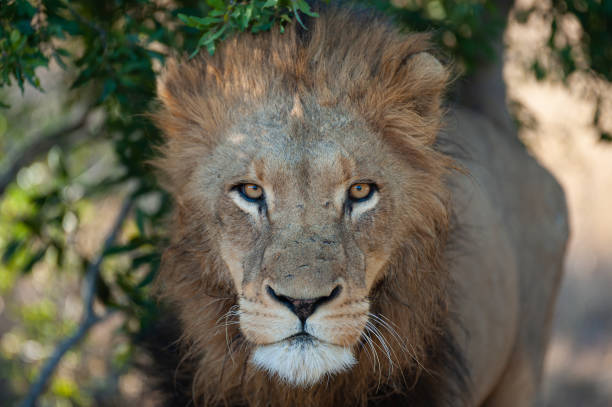lion: (95, 8, 486, 407)
